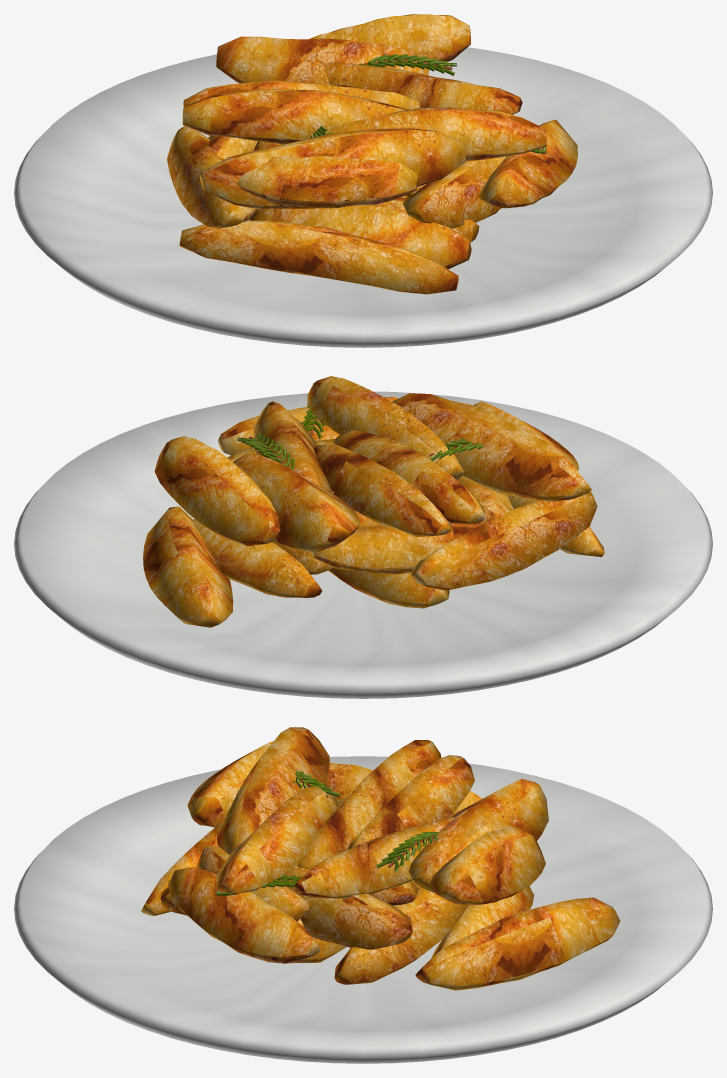
Rendered from batata-crocante.glb.
The picture shows the model from 3 angles, top to bottom: view 1: azimuth 30°, elevation 25°; view 2: azimuth 150°, elevation 25°; view 3: azimuth 270°, elevation 25°; orthographic projection.
Visible parts, largest first — view 1: Prato002, Batata_com_casca, Folha_de_alecrim; view 2: Prato002, Batata_com_casca, Folha_de_alecrim; view 3: Prato002, Batata_com_casca, Folha_de_alecrim.
Boxes of the visible parts, bbox=[...] form: Prato002: bbox=[14, 47, 712, 347]; Batata_com_casca: bbox=[167, 14, 577, 294]; Folha_de_alecrim: bbox=[310, 54, 546, 153]; Prato002: bbox=[14, 391, 712, 698]; Batata_com_casca: bbox=[143, 376, 604, 627]; Folha_de_alecrim: bbox=[237, 407, 486, 470]; Prato002: bbox=[14, 756, 712, 1063]; Batata_com_casca: bbox=[141, 727, 620, 990]; Folha_de_alecrim: bbox=[216, 769, 438, 895].
Size of the model in its own units: 0.24 by 0.056 by 0.24.
Materials: 5 (4 with a texture image).
